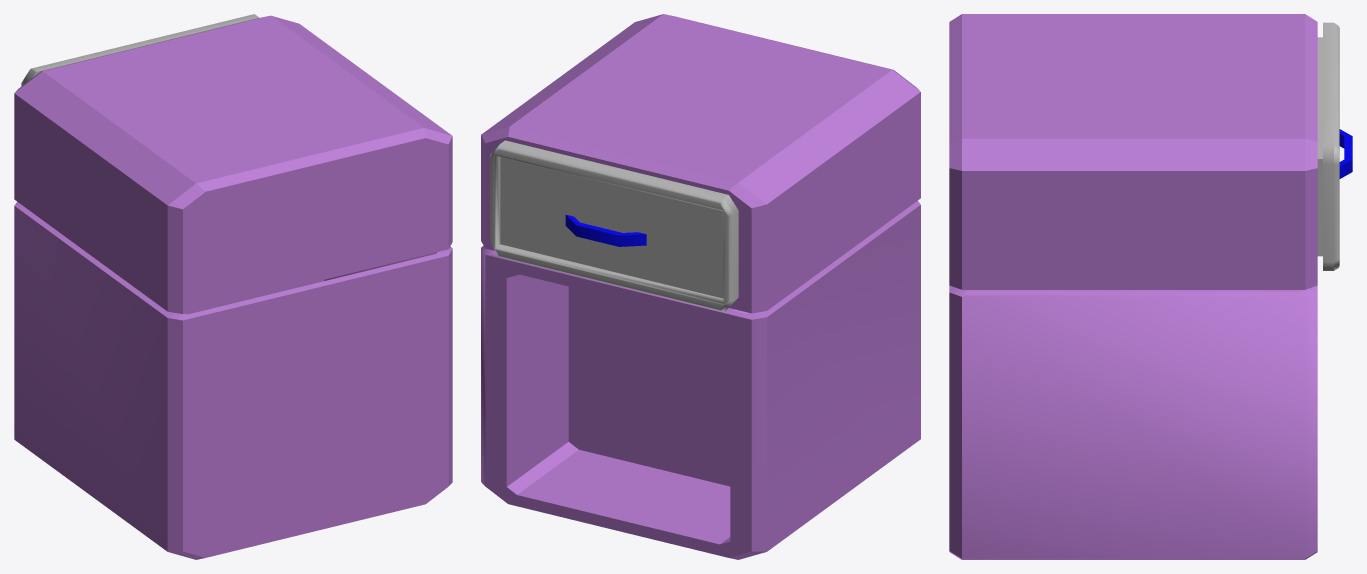
The model's file is cabinetBedDrawerTable.glb.
3 views of the same model, side by side, from view 1: azimuth 30°, elevation 25°; view 2: azimuth 150°, elevation 25°; view 3: azimuth 270°, elevation 25° (orthographic). The views are drawn at different scales.
Parts seen in each view (by area): view 1: cabinetBedDrawerTable; view 2: cabinetBedDrawerTable; view 3: cabinetBedDrawerTable.
Boxes of the visible parts, <box> form: cabinetBedDrawerTable: <box>14,14,452,559</box>; cabinetBedDrawerTable: <box>481,14,920,559</box>; cabinetBedDrawerTable: <box>949,14,1352,559</box>.
Bounding box in the file's own units: 0.3804 × 0.4801 × 0.4164.
